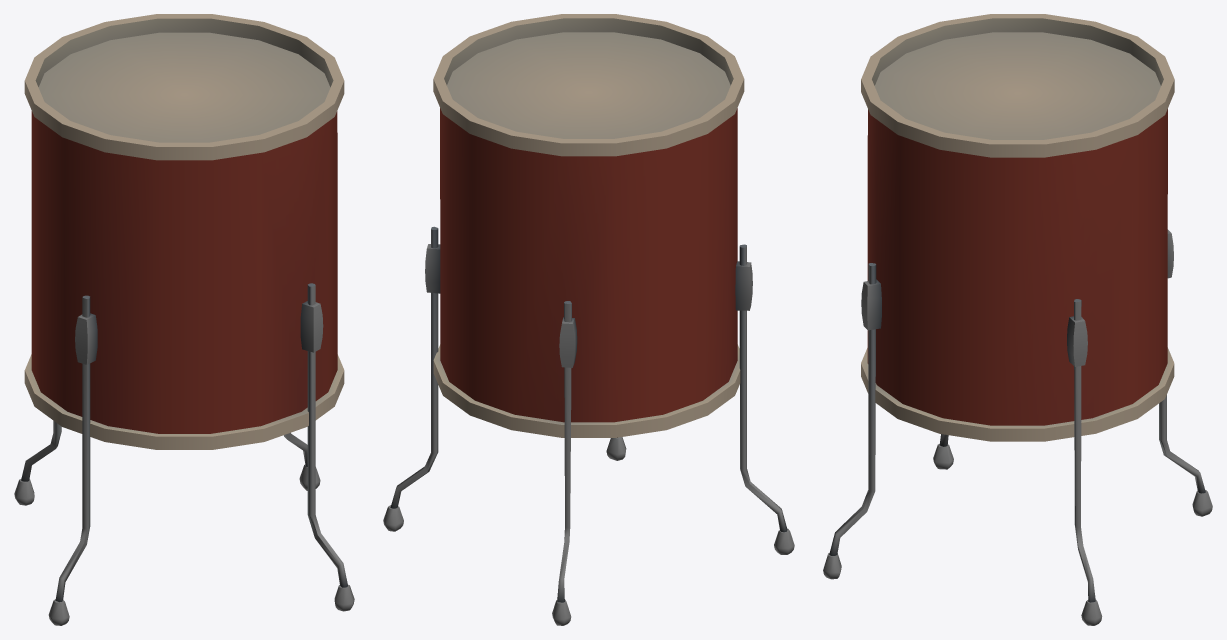
File: human-music-floor-tom_v1.fbx
The picture shows the model from 3 angles, left to right: view 1: azimuth 30°, elevation 25°; view 2: azimuth 150°, elevation 25°; view 3: azimuth 270°, elevation 25°; orthographic projection. The views are drawn at different scales.
Visible parts, largest first — view 1: Floor Tom; view 2: Floor Tom; view 3: Floor Tom.
Part boxes in pixels (bbox=[...]): Floor Tom: bbox=[14, 14, 354, 625]; Floor Tom: bbox=[383, 14, 794, 625]; Floor Tom: bbox=[823, 14, 1212, 625].
Bounding box in the file's own units: 0.4526 × 0.6 × 0.4533.
